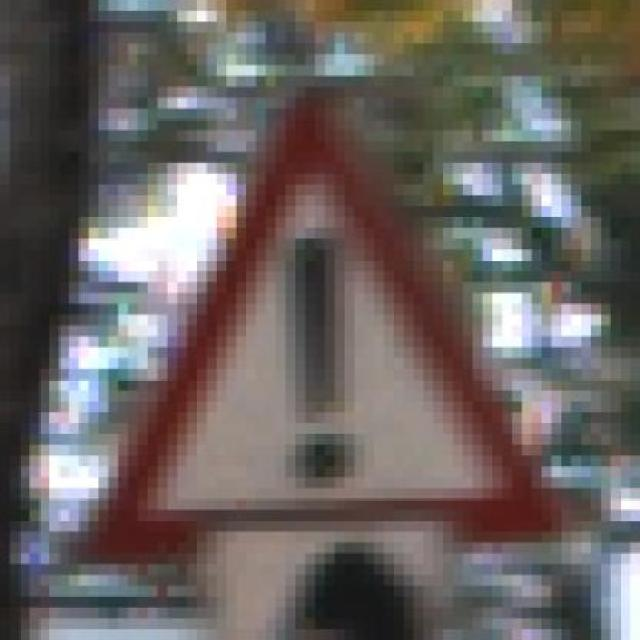Attention Please-: (59, 76, 581, 586)
